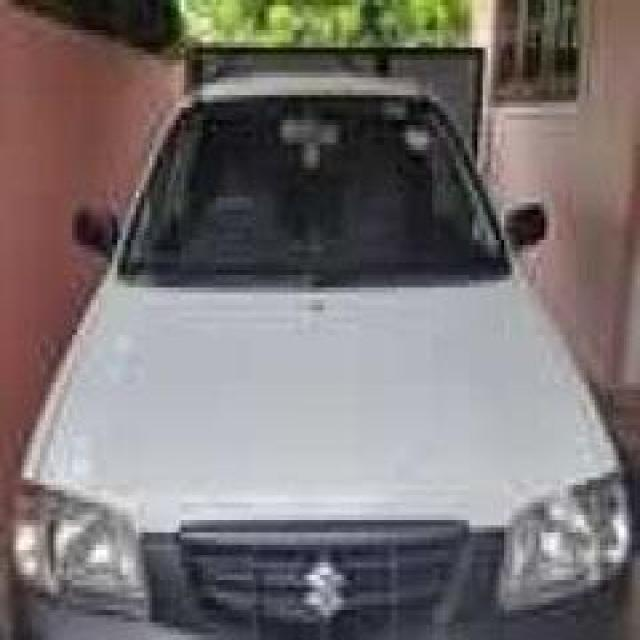car: (8, 52, 640, 638)
